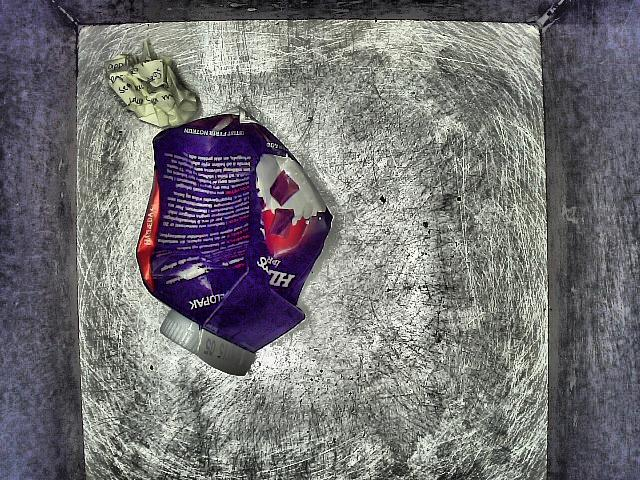Paper: (132, 95, 340, 396), (85, 47, 203, 142)
